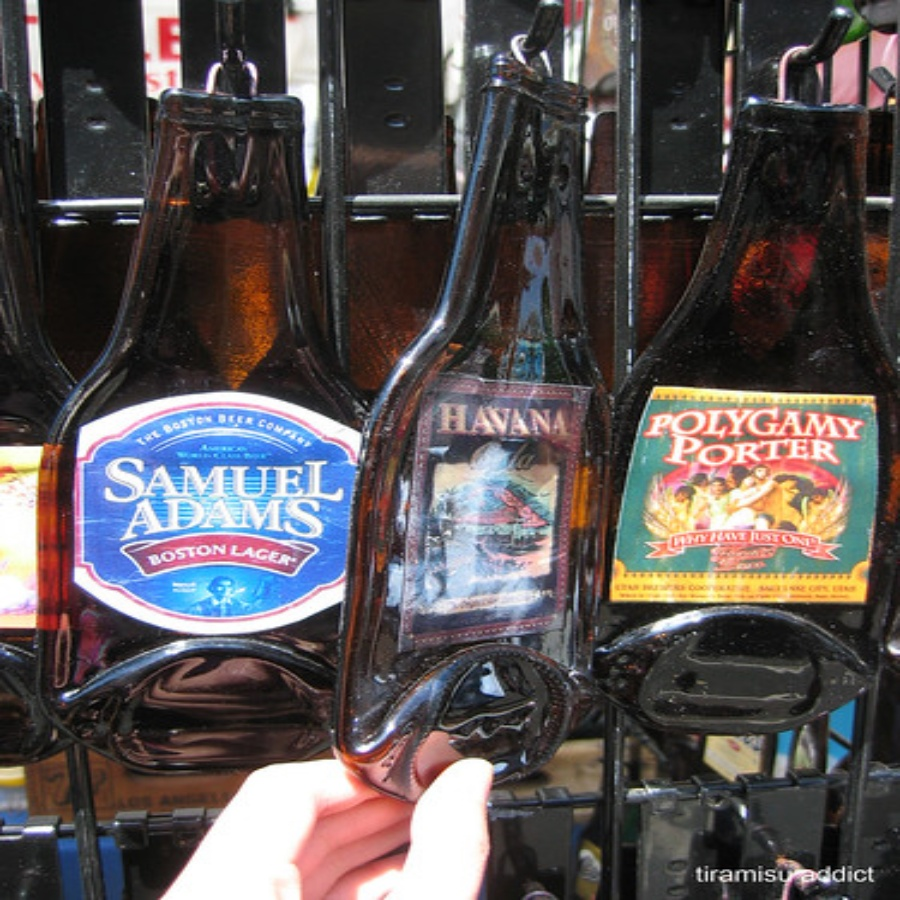beer: (83, 67, 348, 758), (619, 62, 878, 757)
